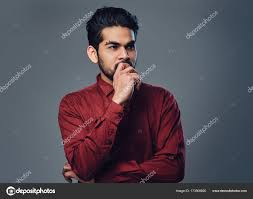Indian_Male: (93, 22, 142, 83)
